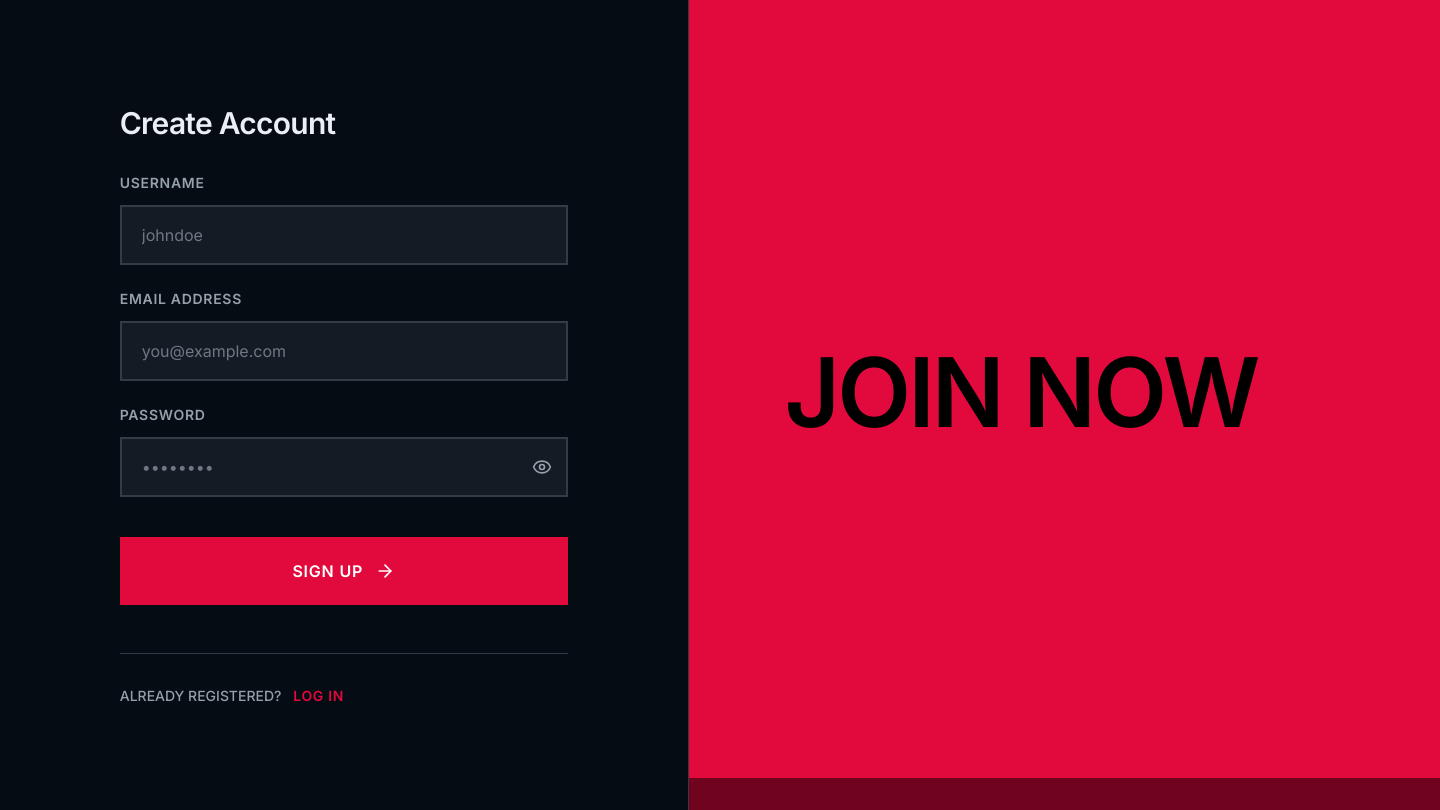
Test: Signup Component › displays default error message when server response fails without a message
The width and height of the screenshot is (1440, 810).
Type "user" into the field labelled "Username" at (344, 234), box [120,204,568,264]
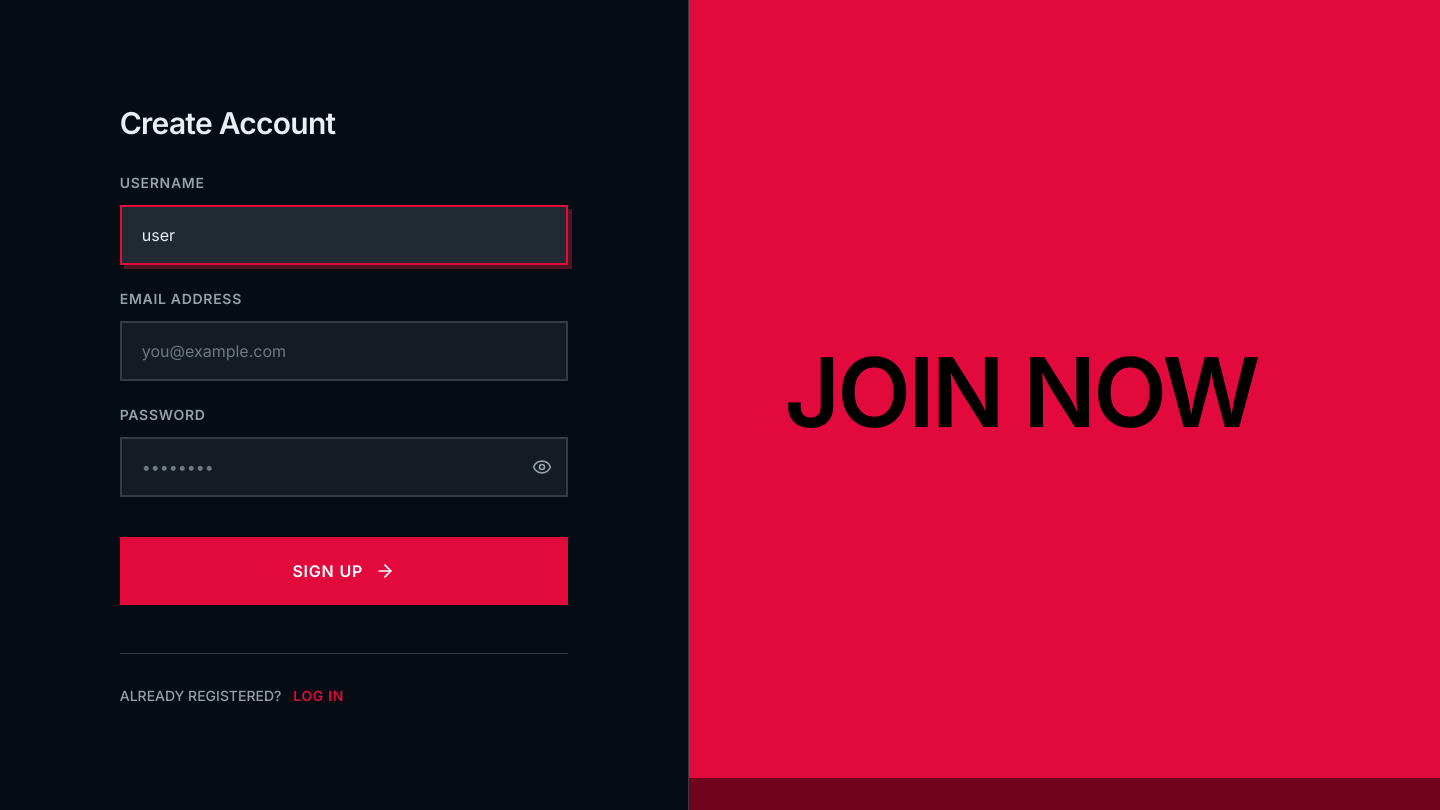
Type "test@example.com" into the field labelled "Email Address" at (344, 350), box [120,320,568,380]
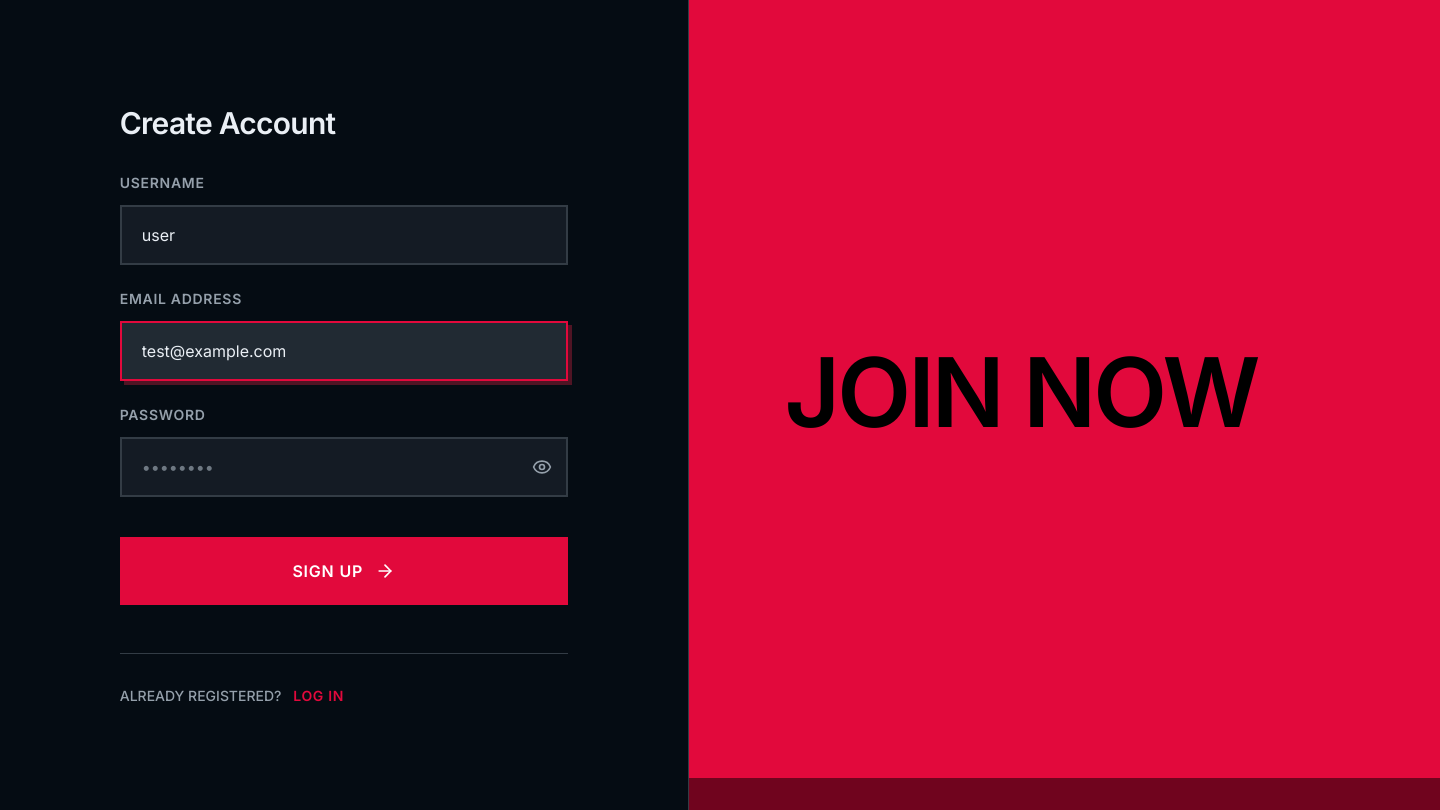
Type "password123" into the password field labelled "Password" at (344, 466), box [120,436,568,496]
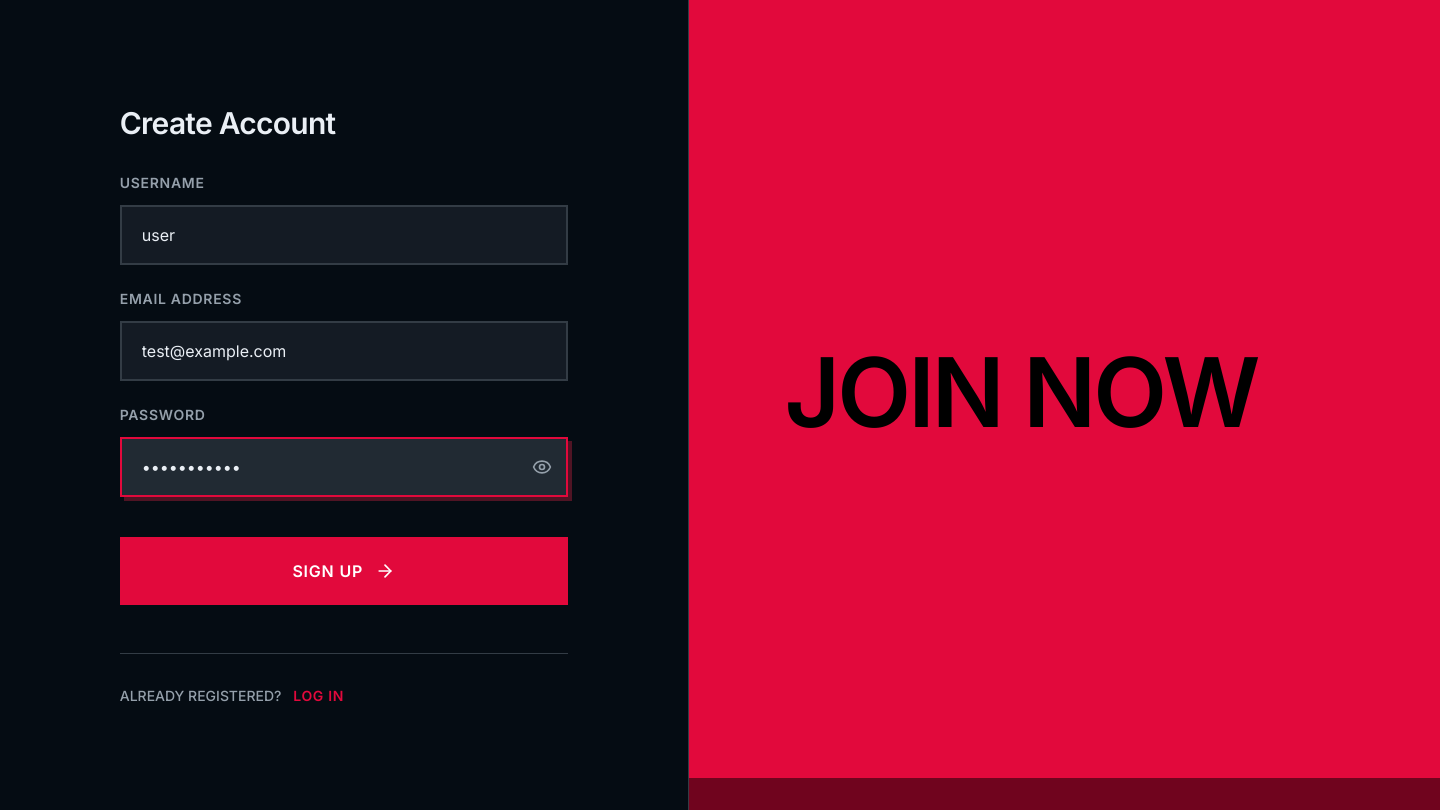
Click the button "Sign Up" at (344, 570), box [120,536,568,604]
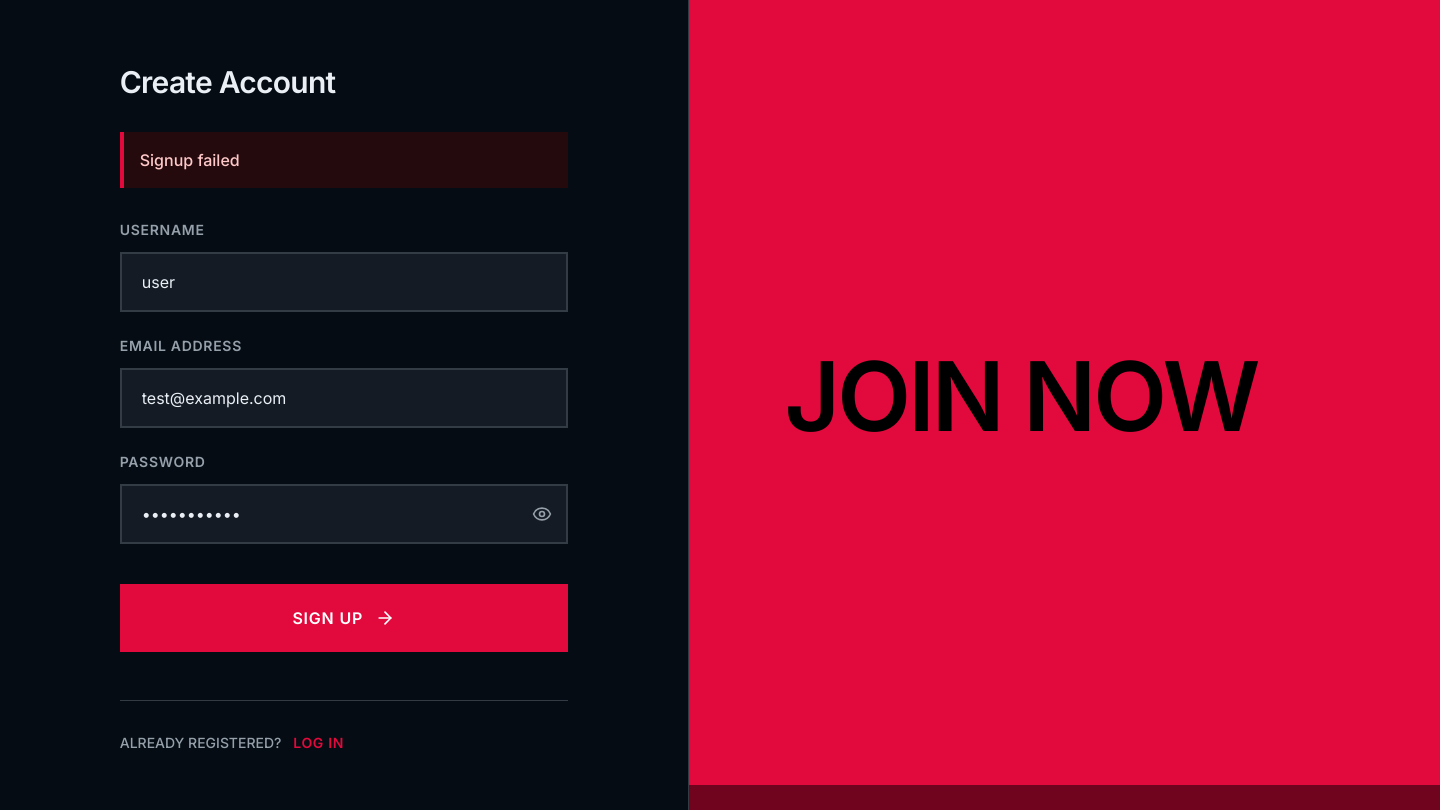
Now the text "Signup failed" is shown, box [120,132,568,188]
